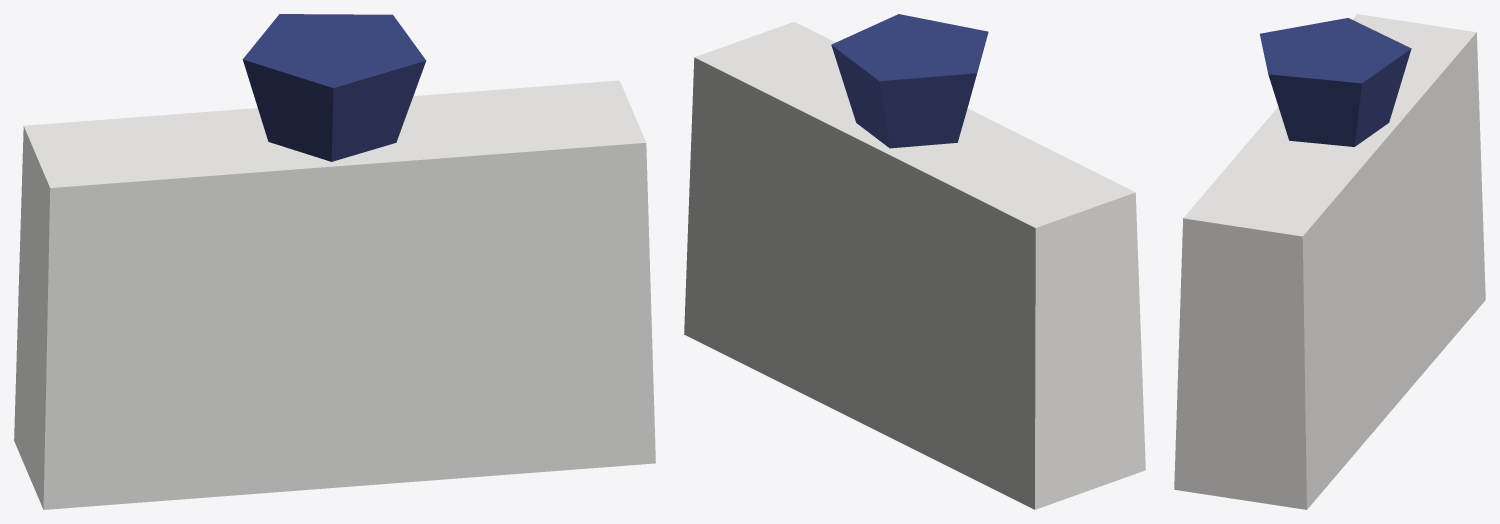
The model's file is Perfume_4.fbx.
The picture shows the model from 3 angles, left to right: view 1: azimuth 30°, elevation 25°; view 2: azimuth 150°, elevation 25°; view 3: azimuth 270°, elevation 25°; orthographic projection. The views are drawn at different scales.
Visible parts, largest first — view 1: Perfume_4; view 2: Perfume_4; view 3: Perfume_4.
Boxes of the visible parts, x1,y1,x2,y2 form: Perfume_4: (14,14,655,509); Perfume_4: (684,14,1145,509); Perfume_4: (1174,14,1485,509).
Bounding box in the file's own units: 17.52 × 10.02 × 12.19.
